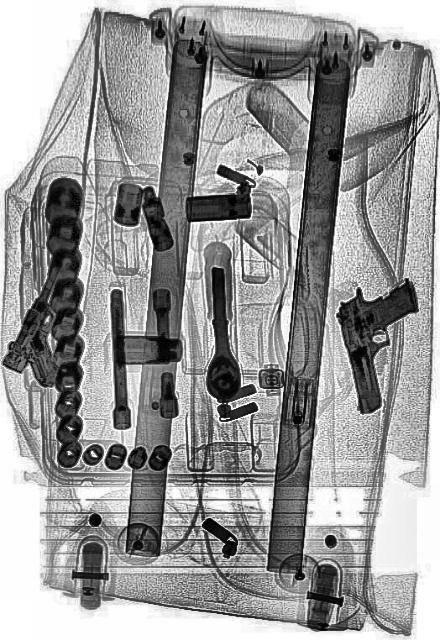Gun: (334, 266, 436, 416), (0, 254, 98, 396)
